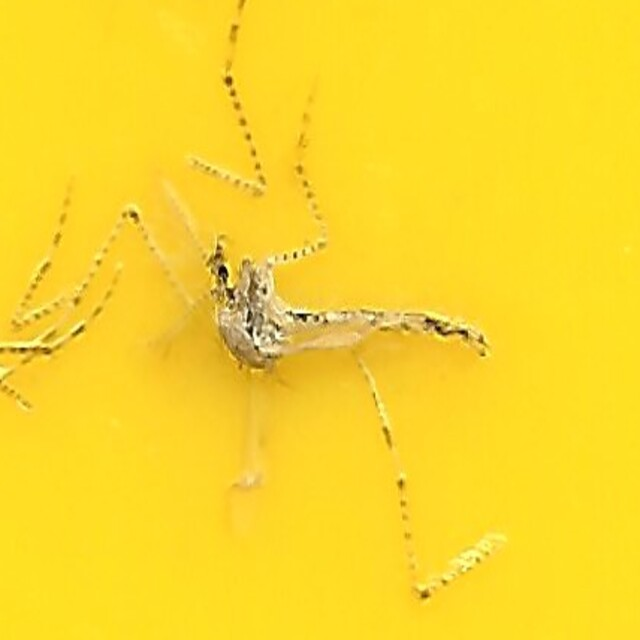Nematocera: (150, 213, 490, 427)
